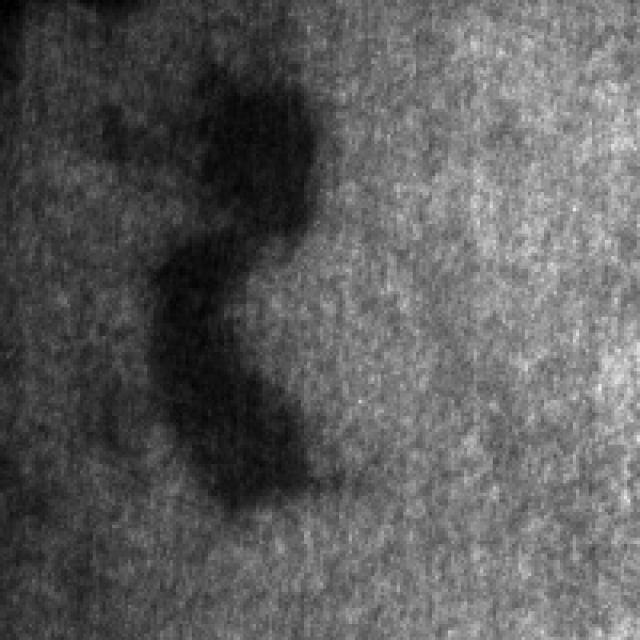patches: (128, 202, 310, 512), (147, 45, 314, 272)
